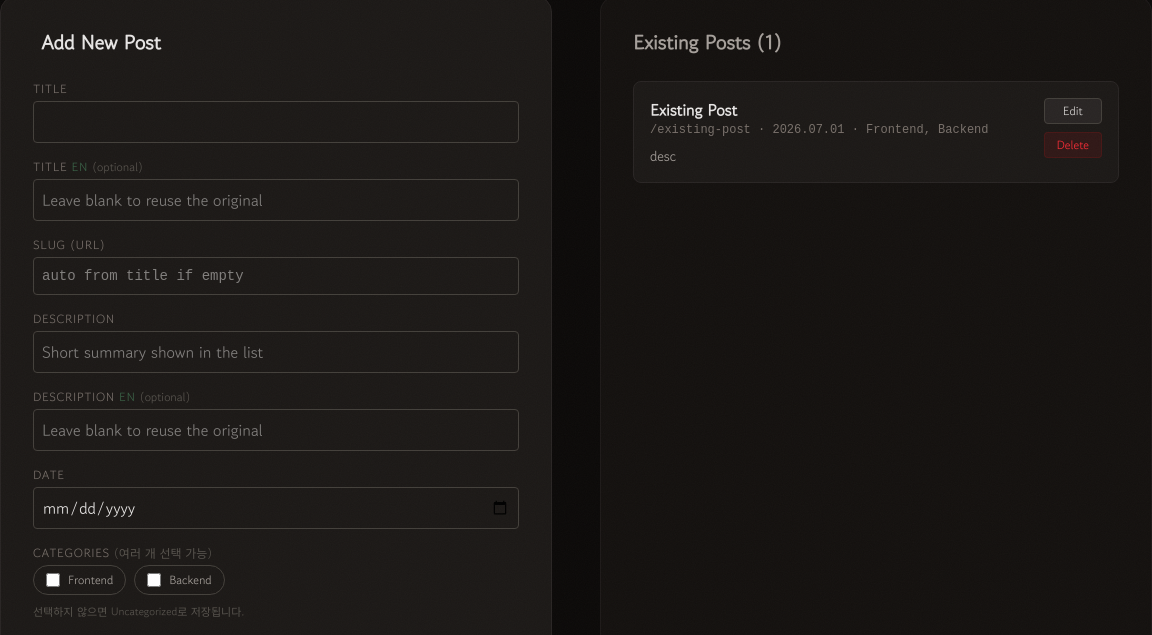
Test: PostManager categories › loads the markdown body only when a post is opened for editing
Click the button "Edit". click: click(1073, 111)
box: [1044,98,1102,124]
(page scrolled)
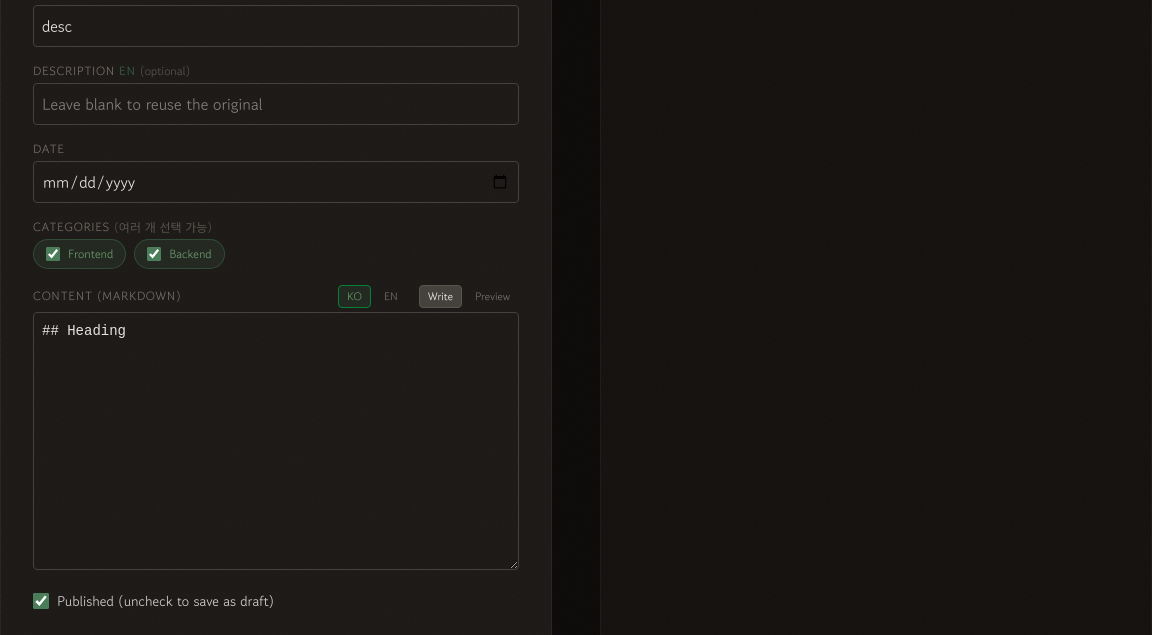
Check: the text box labelled "Content (Markdown)" holds "## Heading", box [33,312,519,570]
